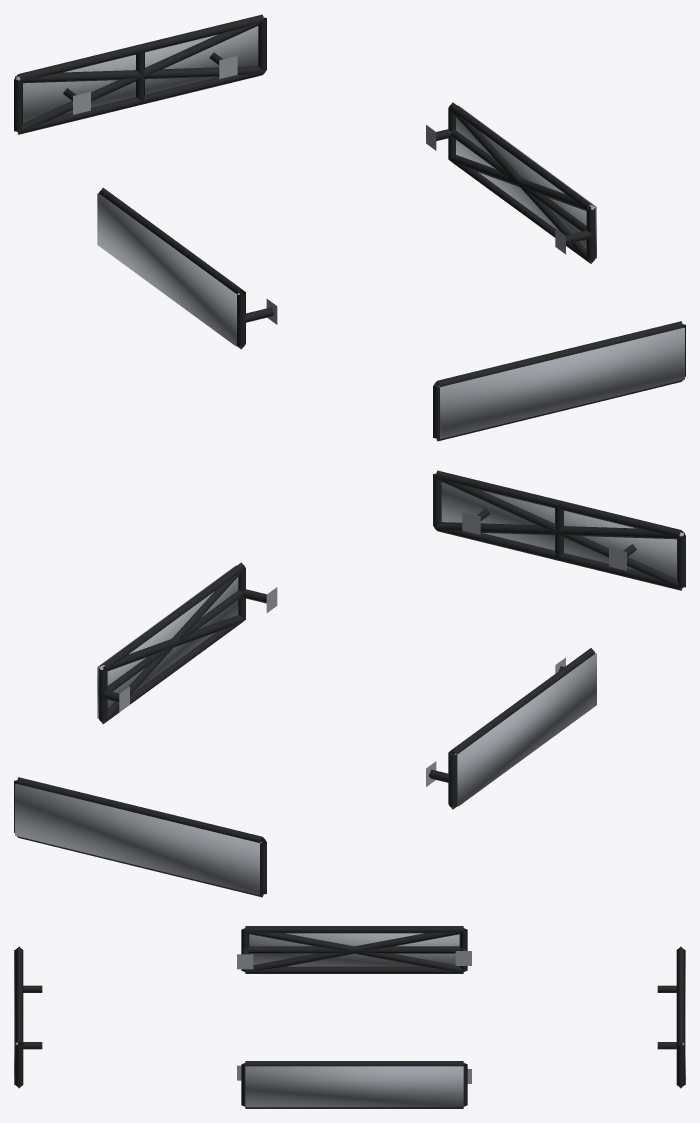
The model's file is ridgeway_ermo_protecao.glb.
The picture shows the model from 3 angles, top to bottom: view 1: azimuth 30°, elevation 25°; view 2: azimuth 150°, elevation 25°; view 3: azimuth 270°, elevation 25°; orthographic projection. The views are drawn at different scales.
Visible parts, largest first — view 1: Protection_front_Level3_Details, Protection_left_Level3_Details, Protection_rear_Level1_Details, Protection_rear_Level3_Details, Protection_rear_Level2_Details, Protection_right_Level1_Details, Protection_right_Level2_Details, Protection_right_Level3_Details, Protection_front_Level1_Details, Protection_left_Level1_Details; view 2: Protection_rear_Level3_Details, Protection_left_Level3_Details, Protection_front_Level1_Details, Protection_front_Level3_Details, Protection_front_Level2_Details, Protection_right_Level1_Details, Protection_right_Level2_Details, Protection_right_Level3_Details, Protection_rear_Level1_Details, Protection_left_Level1_Details; view 3: Protection_right_Level3_Details, Protection_left_Level2_Details, Protection_left_Level1_Details, Protection_left_Level3_Details, Protection_right_Level1_Details, Protection_rear_Level1_Details, Protection_front_Level1_Details.
Boxes of the visible parts, <box> form: Protection_front_Level3_Details: <box>438,327,684,439</box>; Protection_left_Level3_Details: <box>97,193,239,346</box>; Protection_rear_Level1_Details: <box>14,14,266,134</box>; Protection_rear_Level3_Details: <box>15,26,258,123</box>; Protection_rear_Level2_Details: <box>16,21,264,133</box>; Protection_right_Level1_Details: <box>426,102,595,263</box>; Protection_right_Level2_Details: <box>448,109,594,263</box>; Protection_right_Level3_Details: <box>456,105,596,258</box>; Protection_front_Level1_Details: <box>433,321,685,441</box>; Protection_left_Level1_Details: <box>99,187,277,349</box>; Protection_rear_Level3_Details: <box>15,783,261,895</box>; Protection_left_Level3_Details: <box>454,653,596,806</box>; Protection_front_Level1_Details: <box>433,470,685,590</box>; Protection_front_Level3_Details: <box>441,482,684,579</box>; Protection_front_Level2_Details: <box>435,477,683,589</box>; Protection_right_Level1_Details: <box>98,562,277,724</box>; Protection_right_Level2_Details: <box>100,568,245,723</box>; Protection_right_Level3_Details: <box>97,565,238,718</box>; Protection_rear_Level1_Details: <box>14,777,266,897</box>; Protection_left_Level1_Details: <box>426,648,595,809</box>; Protection_right_Level3_Details: <box>245,1066,463,1107</box>; Protection_left_Level2_Details: <box>245,928,463,971</box>; Protection_left_Level1_Details: <box>237,926,471,973</box>; Protection_left_Level3_Details: <box>249,933,459,966</box>; Protection_right_Level1_Details: <box>237,1061,471,1108</box>; Protection_rear_Level1_Details: <box>657,946,684,1088</box>; Protection_front_Level1_Details: <box>15,946,42,1088</box>.
Size of the model in its own units: 2.2 by 0.354 by 4.49.
1 material, 1 textured.
